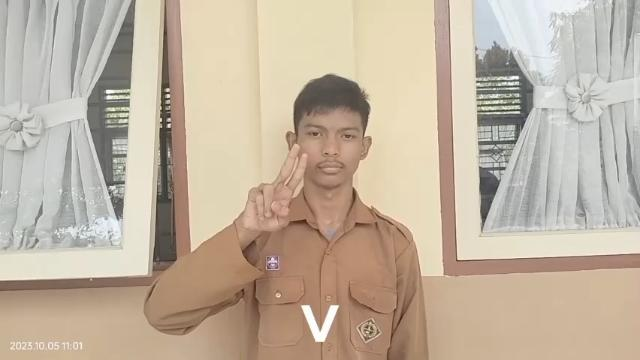U: (242, 140, 314, 240)
